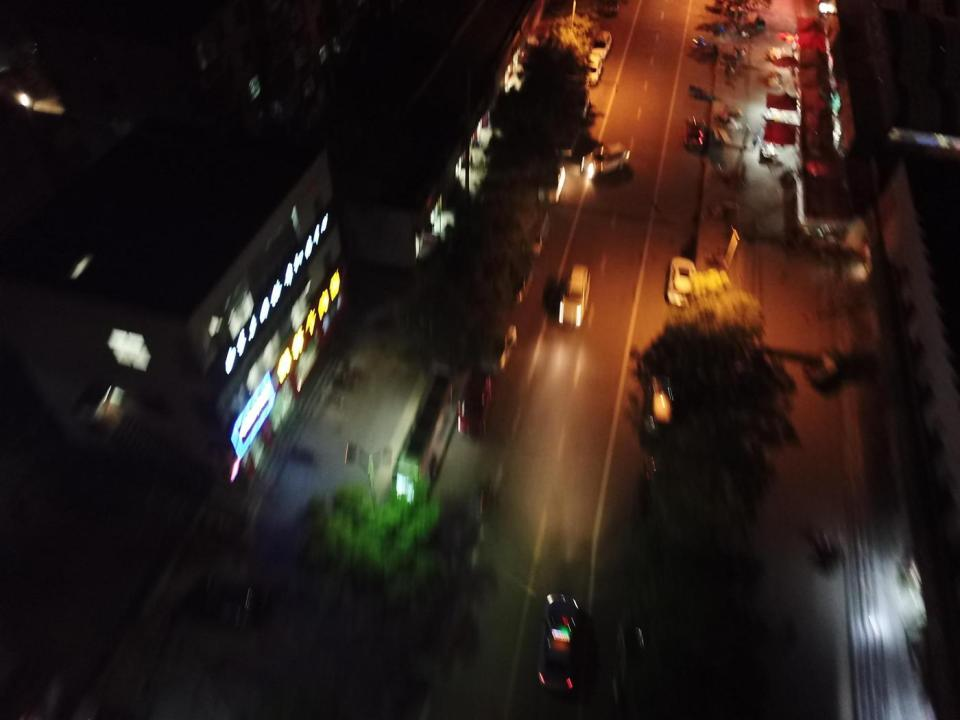bus: (386, 361, 462, 508)
car: (616, 613, 676, 715), (538, 592, 590, 698), (196, 575, 272, 628), (642, 454, 692, 527), (646, 374, 686, 442), (457, 373, 492, 439), (558, 263, 590, 329), (476, 321, 516, 372), (509, 205, 549, 256), (492, 251, 531, 303), (666, 256, 702, 306), (586, 144, 626, 177), (536, 162, 566, 204), (546, 121, 578, 158), (563, 87, 591, 121), (581, 53, 602, 88), (685, 117, 705, 149), (590, 30, 611, 60), (604, 0, 620, 18)
